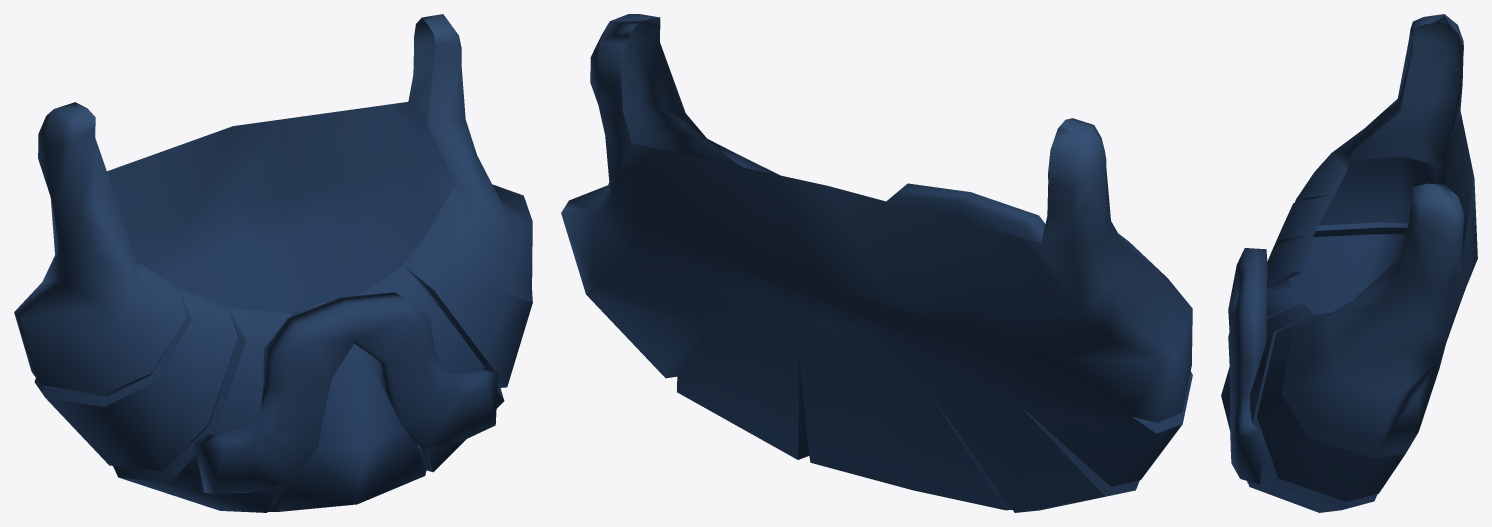
The model's file is Beard_Blue_17.fbx.
The picture shows the model from 3 angles, left to right: view 1: azimuth 30°, elevation 25°; view 2: azimuth 150°, elevation 25°; view 3: azimuth 270°, elevation 25°; orthographic projection. The views are drawn at different scales.
Parts seen in each view (by area): view 1: Beard_Blue_17; view 2: Beard_Blue_17; view 3: Beard_Blue_17.
Boxes of the visible parts, x1,y1,x2,y2 form: Beard_Blue_17: (14, 14, 532, 512); Beard_Blue_17: (561, 14, 1192, 512); Beard_Blue_17: (1221, 14, 1477, 512).
Bounding box in the file's own units: 64.08 × 47.7 × 29.49.
